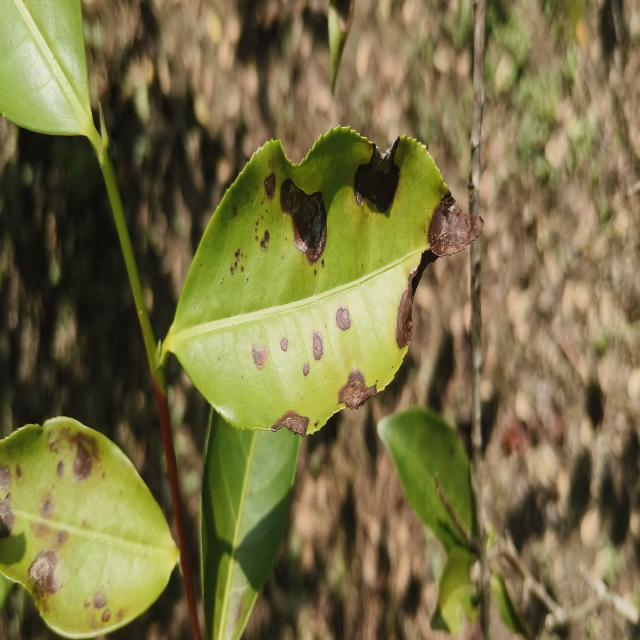Leaf: (162, 127, 483, 435), (0, 417, 178, 638), (201, 410, 302, 640), (377, 407, 476, 551), (0, 0, 93, 135), (431, 546, 478, 634)
